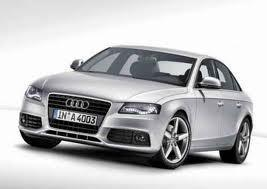Car: (15, 35, 259, 174)
